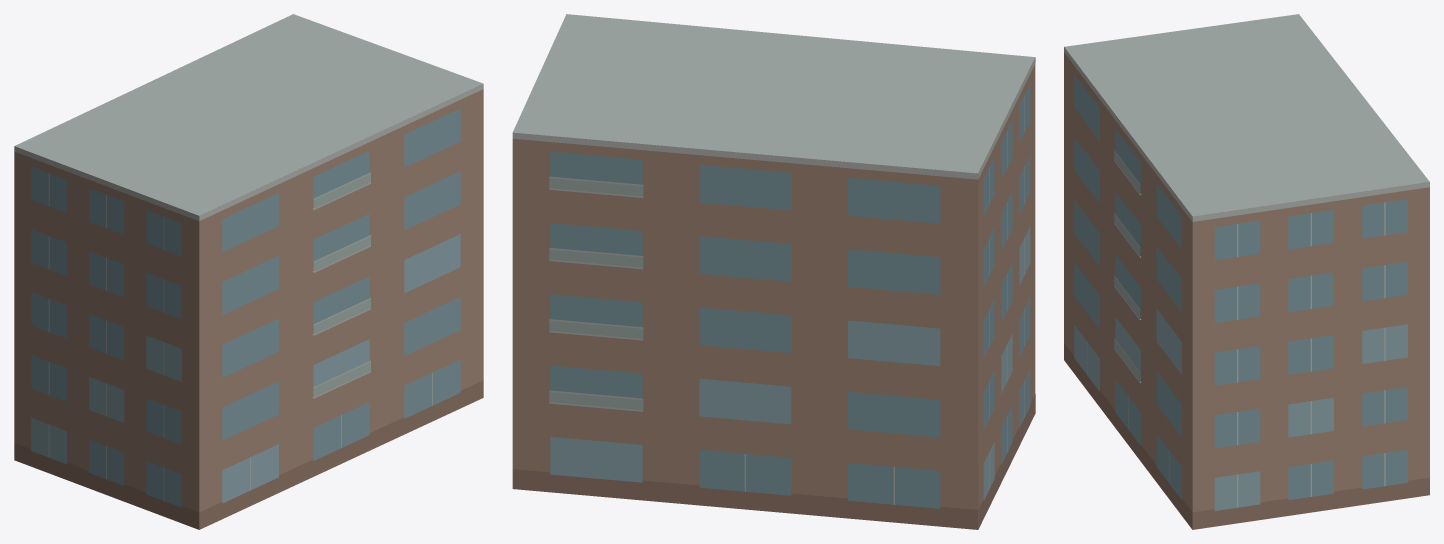
Rendered from survey-upis-32812446.glb.
3 views of the same model, side by side, from view 1: azimuth 30°, elevation 25°; view 2: azimuth 150°, elevation 25°; view 3: azimuth 270°, elevation 25° (orthographic). The views are drawn at different scales.
Parts seen in each view (by area): view 1: survey-upis-32812446.tmp; view 2: survey-upis-32812446.tmp; view 3: survey-upis-32812446.tmp.
Boxes of the visible parts, <box> form: survey-upis-32812446.tmp: <box>14,14,483,529</box>; survey-upis-32812446.tmp: <box>512,14,1035,529</box>; survey-upis-32812446.tmp: <box>1064,14,1429,529</box>.
Size of the model in its own units: 19.7 by 14.2 by 15.03.
